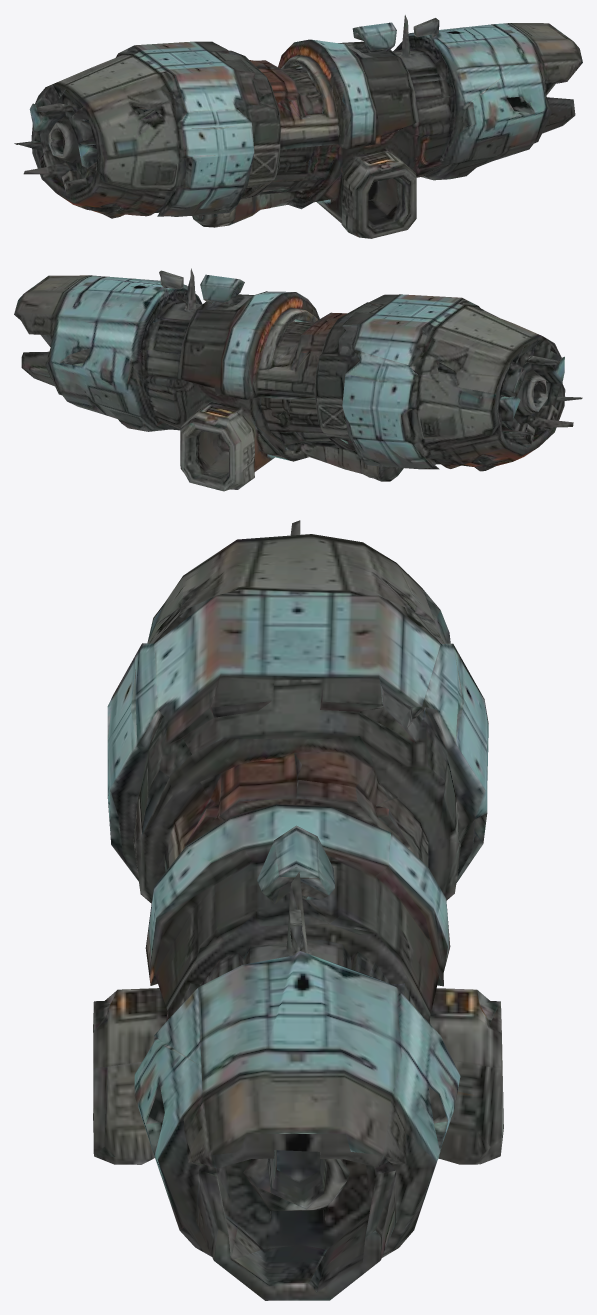
The model's file is wreckage-model-0.glb.
The picture shows the model from 3 angles, top to bottom: view 1: azimuth 30°, elevation 25°; view 2: azimuth 150°, elevation 25°; view 3: azimuth 270°, elevation 25°; orthographic projection. The views are drawn at different scales.
Visible parts, largest first — view 1: Mesh1.0; view 2: Mesh1.0; view 3: Mesh1.0.
Boxes of the visible parts, left/top/right/bottom form: Mesh1.0: left=14, top=15, right=582, bottom=238; Mesh1.0: left=14, top=268, right=582, bottom=491; Mesh1.0: left=93, top=520, right=503, bottom=1300.
Bounding box in the file's own units: 1.91 × 0.6144 × 0.6265.
Materials: 1 (1 with a texture image).
